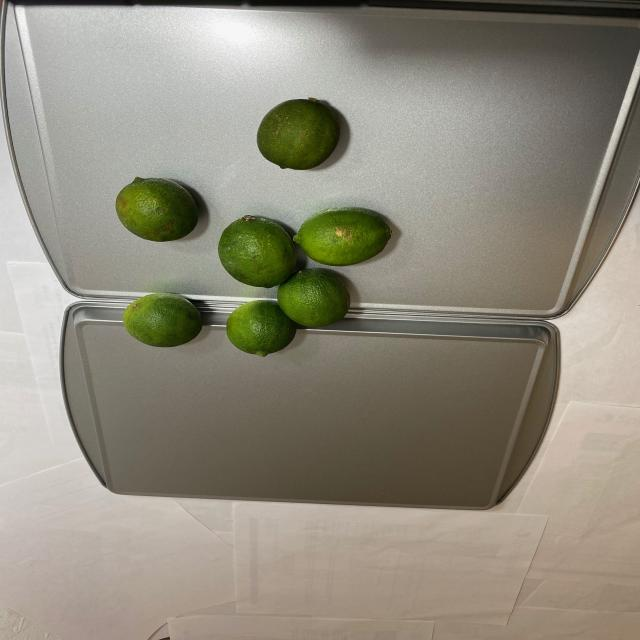lemon: (112, 90, 397, 358)
